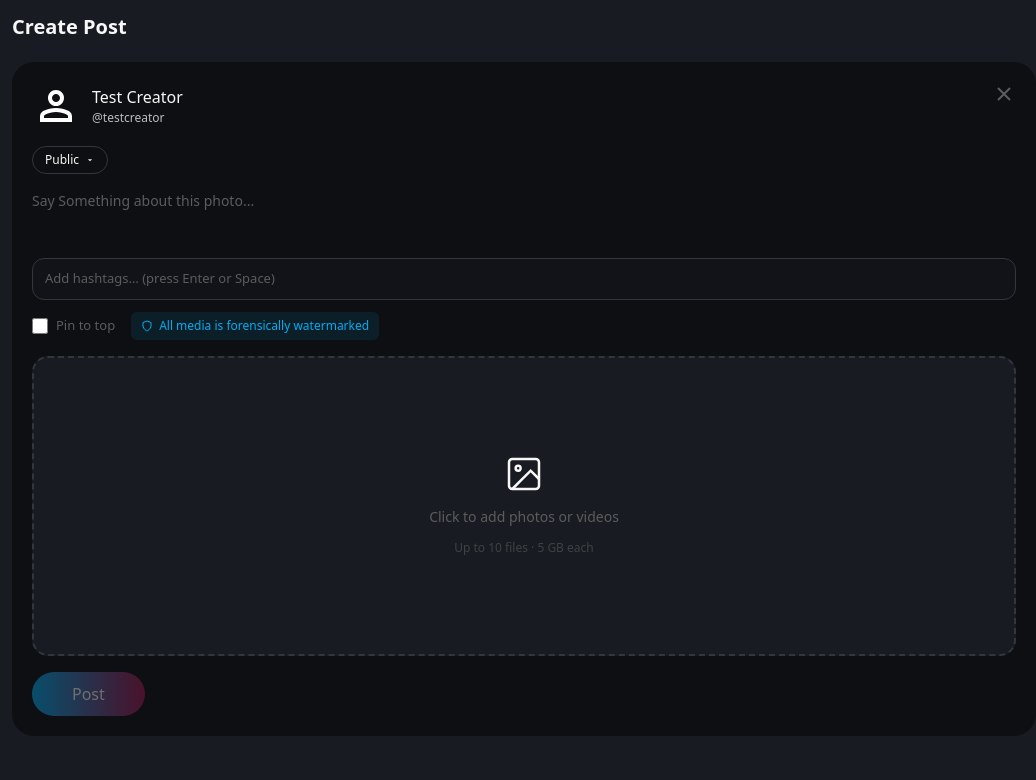
CreatePost page › should enable Post button when text is entered
Type "Hello world!" into the text box with placeholder "Say Something about this photo..." at (524, 215), box [32, 190, 1016, 240]
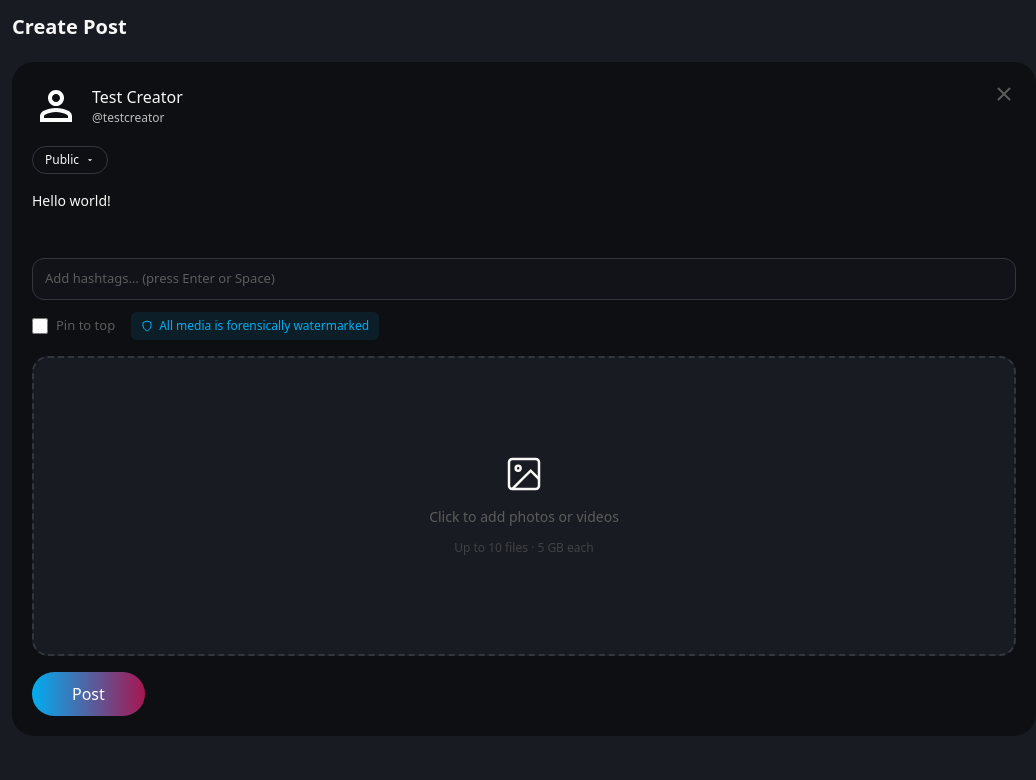
Check: the button "Post" is enabled, box [32, 672, 145, 716]
